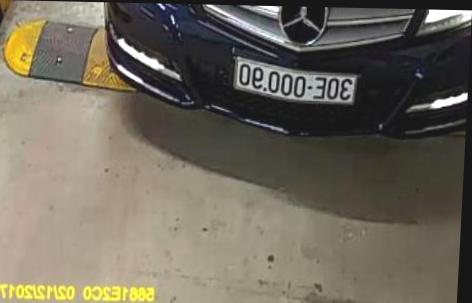License_Plate: (231, 59, 360, 104)
